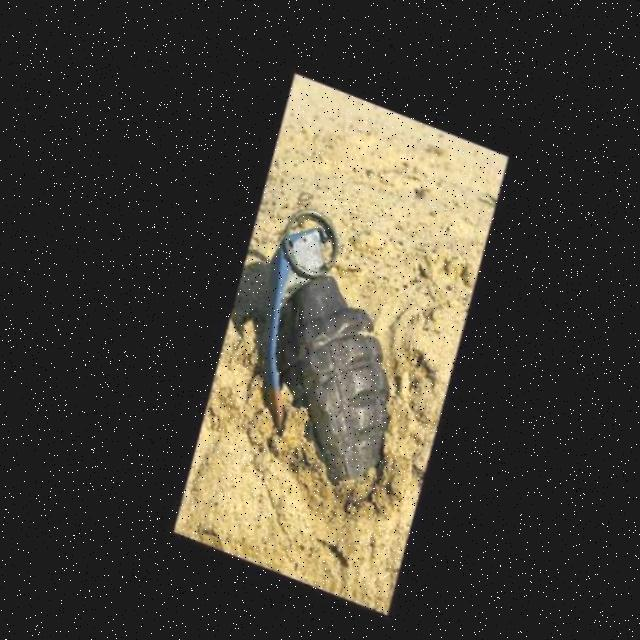grenade: (191, 171, 471, 533)
